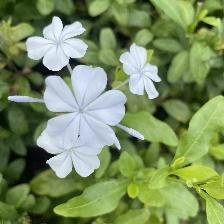chitrak: (45, 62, 123, 155), (28, 16, 90, 74), (119, 42, 161, 98), (43, 137, 100, 177)
